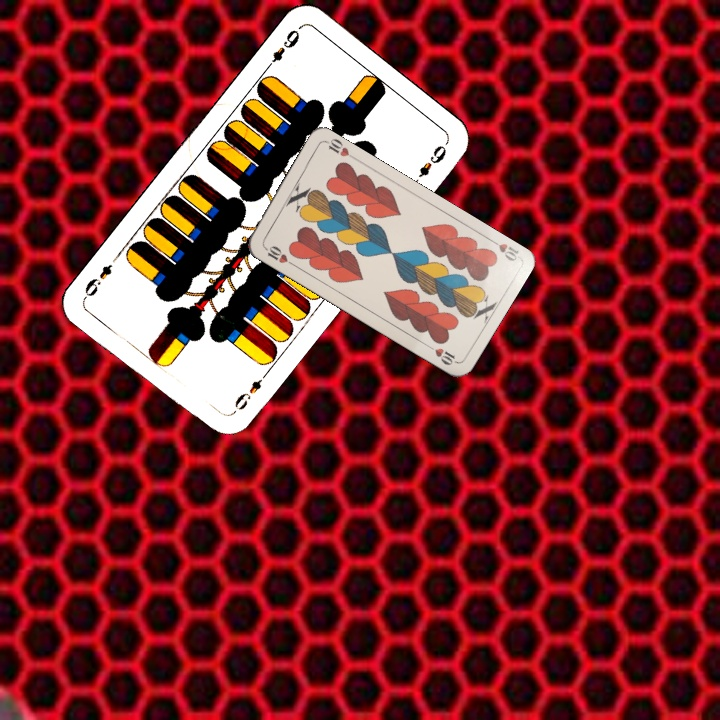E9: (228, 368, 271, 417), (261, 23, 303, 73)
H10: (484, 234, 522, 264), (259, 241, 296, 268)
